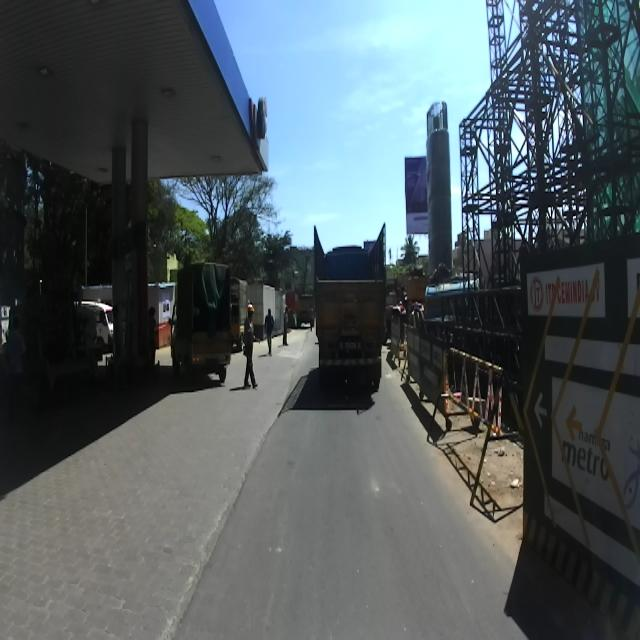barrier ahead at: (396, 314, 468, 449)
car ahead at: (177, 250, 237, 372)
person ahead at: (238, 292, 259, 397)
truck ahead at: (302, 219, 388, 408)
